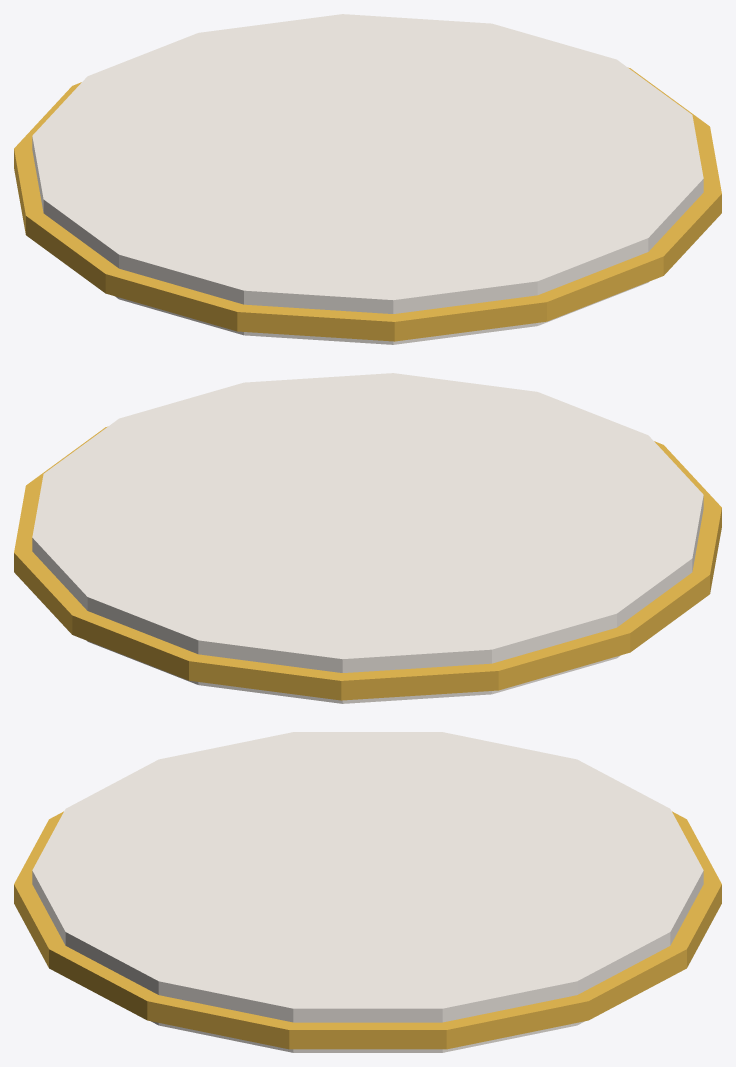
Rendered from CatCafe_Menu_GoldPlate.glb.
3 views of the same model, one above another, from view 1: azimuth 30°, elevation 25°; view 2: azimuth 150°, elevation 25°; view 3: azimuth 270°, elevation 25° (orthographic).
Parts seen in each view (by area): view 1: CatCafe_Menu_GoldPlate; view 2: CatCafe_Menu_GoldPlate; view 3: CatCafe_Menu_GoldPlate.
Boxes of the visible parts, x1,y1,x2,y2 form: CatCafe_Menu_GoldPlate: (14,14,721,344); CatCafe_Menu_GoldPlate: (14,373,721,703); CatCafe_Menu_GoldPlate: (14,732,721,1052).
Size of the model in its own units: 1.13 by 0.12 by 1.16.
Materials: 1 (1 with a texture image).
